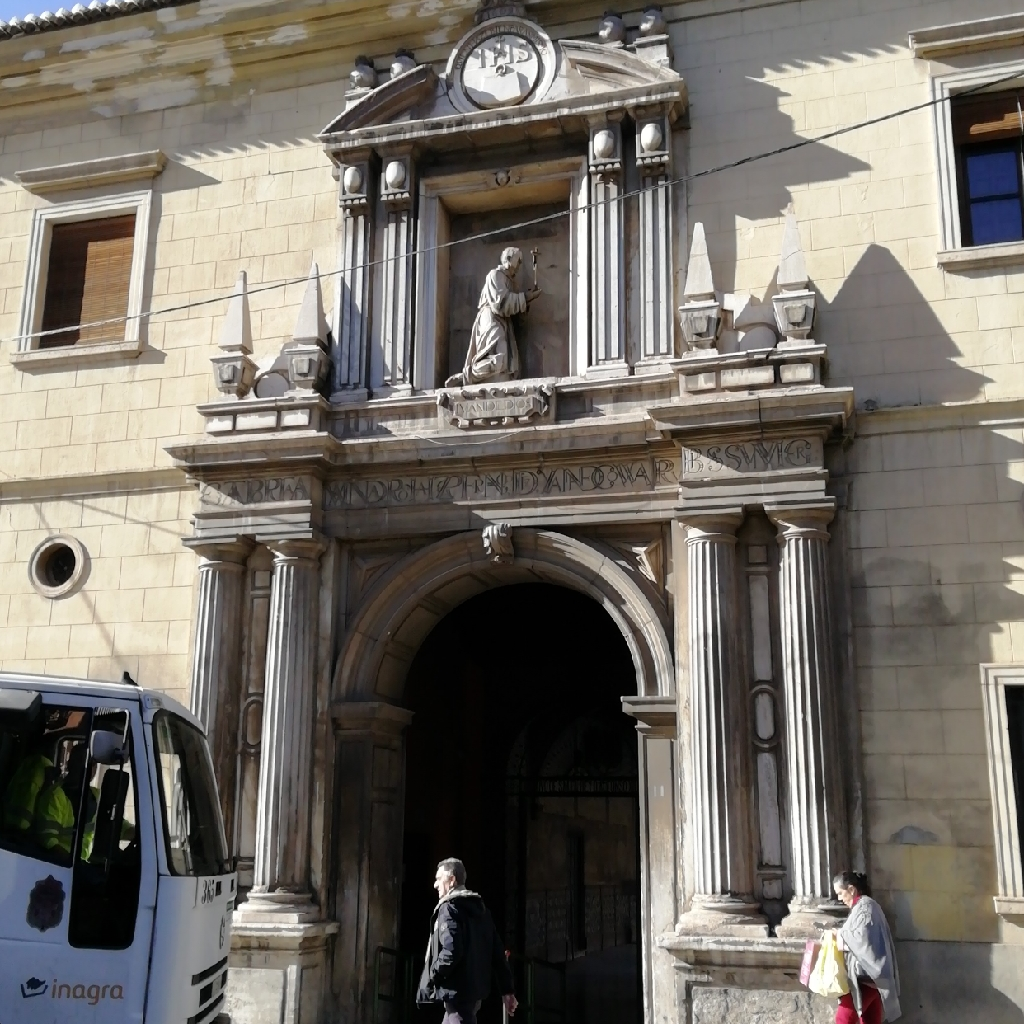arco-medio-punto: (366, 544, 664, 750)
fronton-partido: (320, 37, 688, 150)
ojo-de-buey: (24, 530, 92, 597)
vano-adintelado: (406, 144, 597, 383), (19, 165, 156, 350), (932, 49, 1022, 258)
